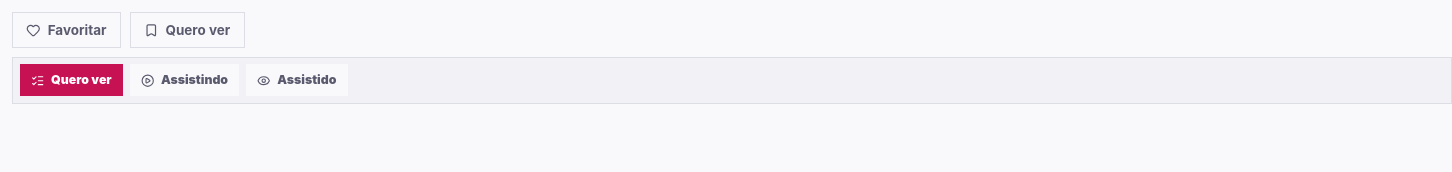
ProductionActions › usuário autenticado › os botões de status (want/watching/watched) são mutuamente exclusivos
Click the button "Assistindo". click: coordinates (184, 80)
box: [130, 64, 239, 96]
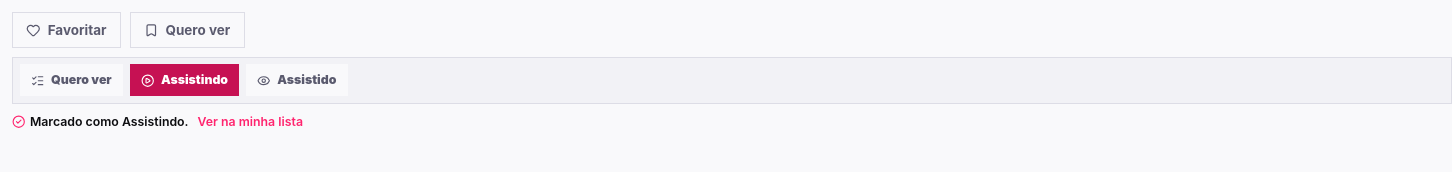
Result: the text "Marcado como Assistindo." is shown at [12, 113, 188, 131]
